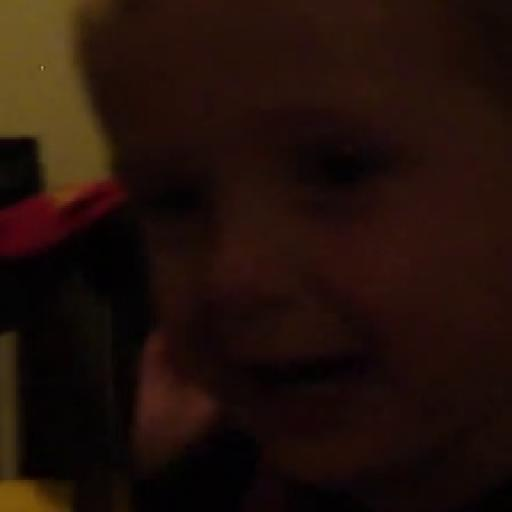Autism: (50, 42, 512, 493)
